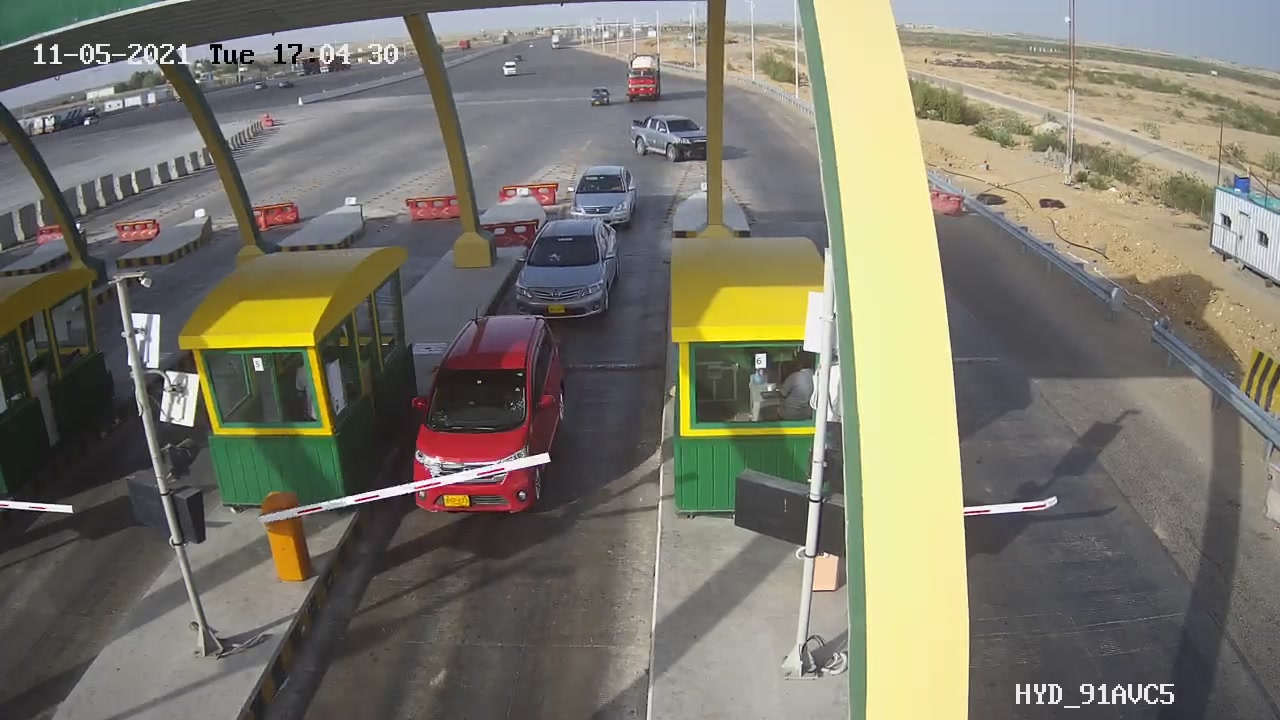F1: (391, 301, 592, 531), (507, 208, 629, 326)
